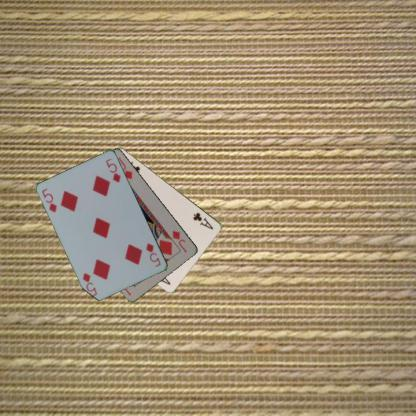5d: (144, 240, 162, 269), (40, 185, 58, 214)
Ac: (190, 210, 216, 230)
Jd: (170, 228, 188, 254)
